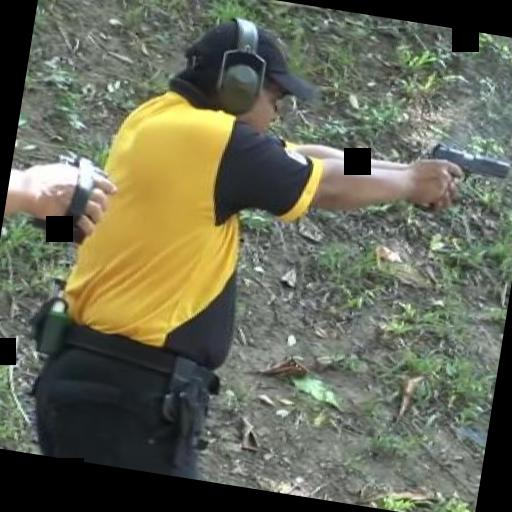Handgun: (411, 137, 512, 217)
